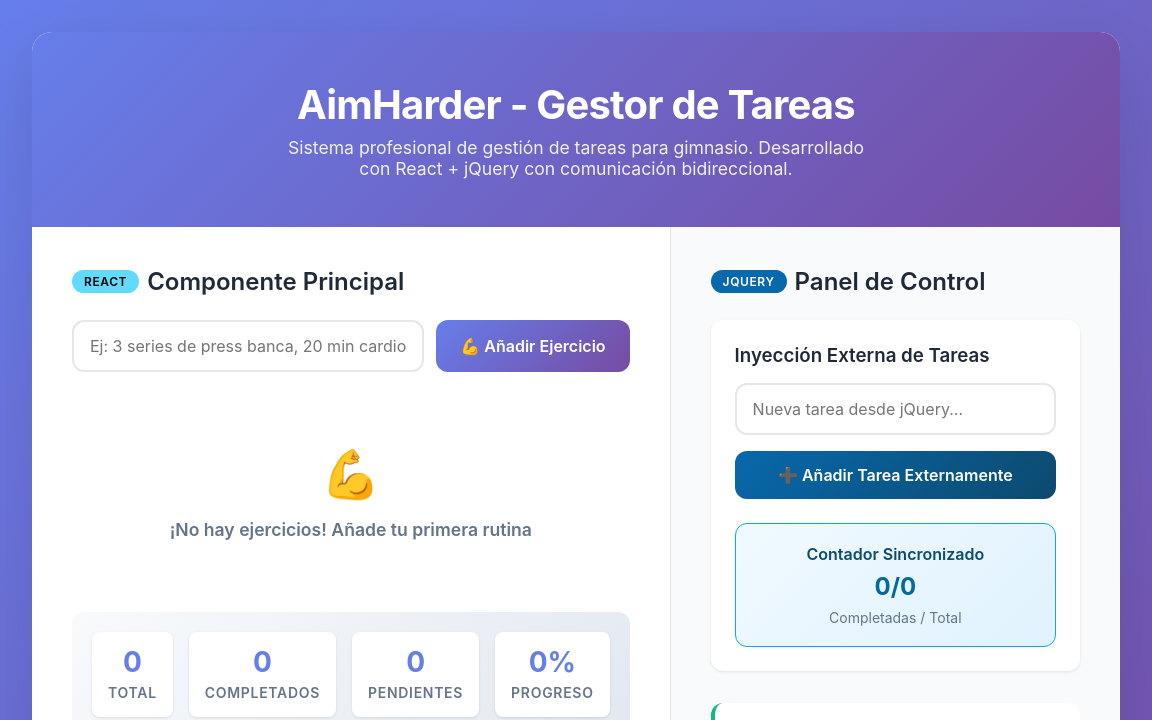
Todo App › adds and completes a task
Type "Tarea E2E" into the field with id "task-input-jq". click: [896, 409]
box: [735,383,1056,435]
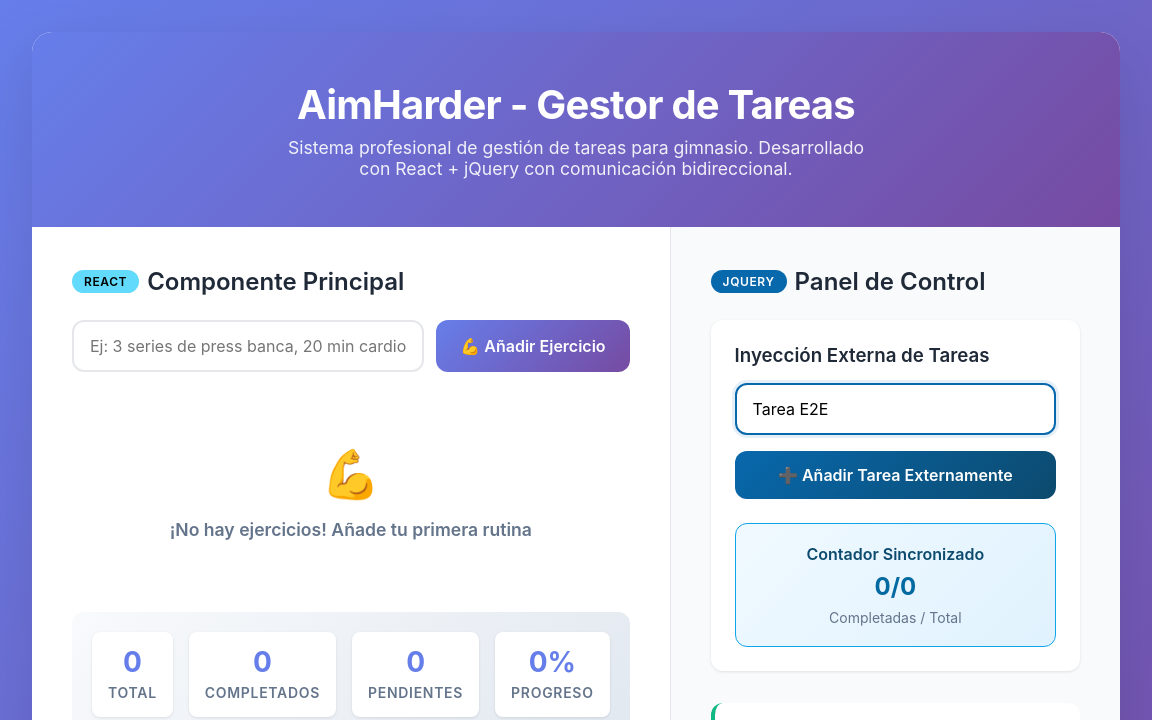
Click the button with id "add-task-jq". click: [896, 475]
box: [735,451,1056,499]
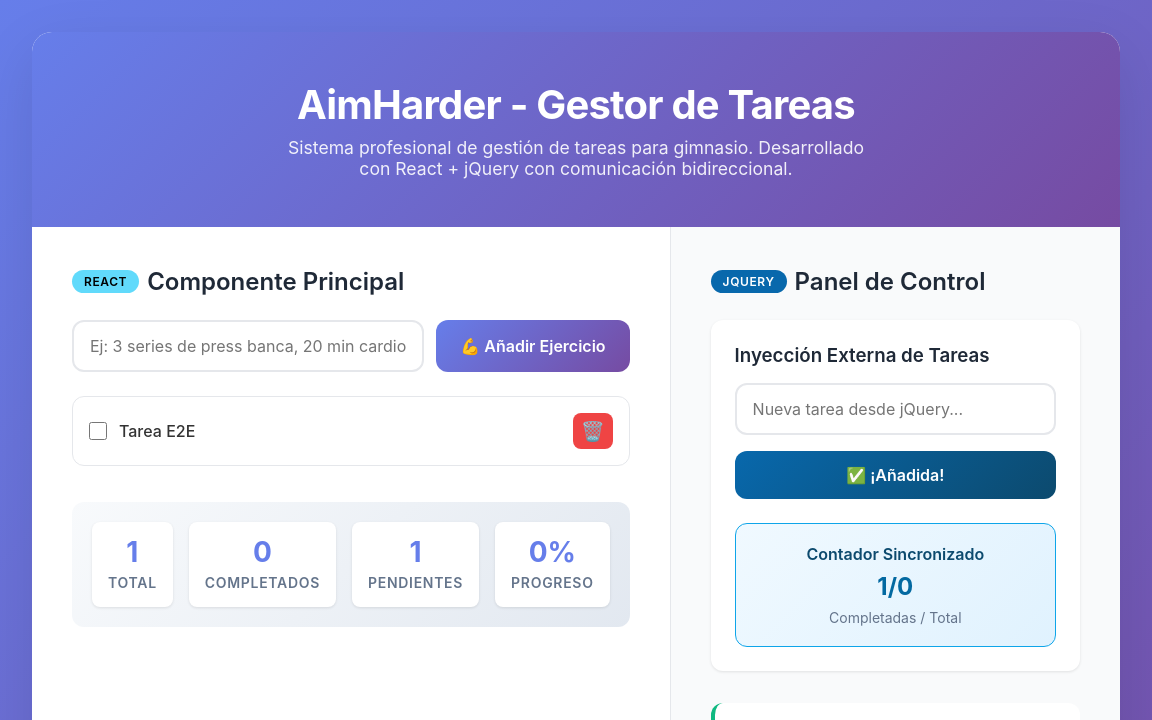
Note: Task should appear in React list
Check the checkbox labelled "Tarea E2E". click: [98, 431]
box: [89,422,107,440]
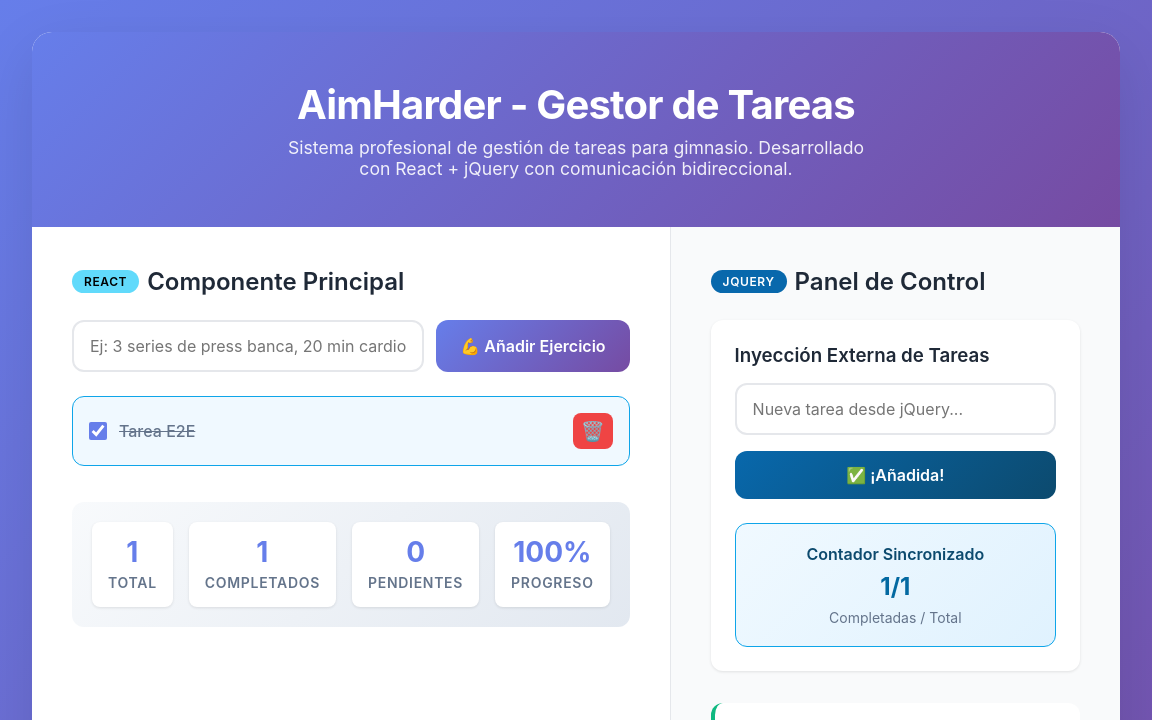
Result: the text with id "task-count" reads "1/1" at [880,572,910,601]
